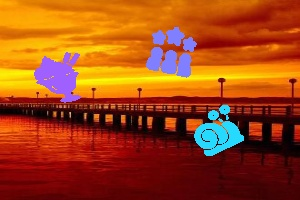三朵花: (147, 27, 196, 77)
杯子冰淇淋: (34, 51, 84, 103)
蜗牛: (192, 105, 245, 154)
